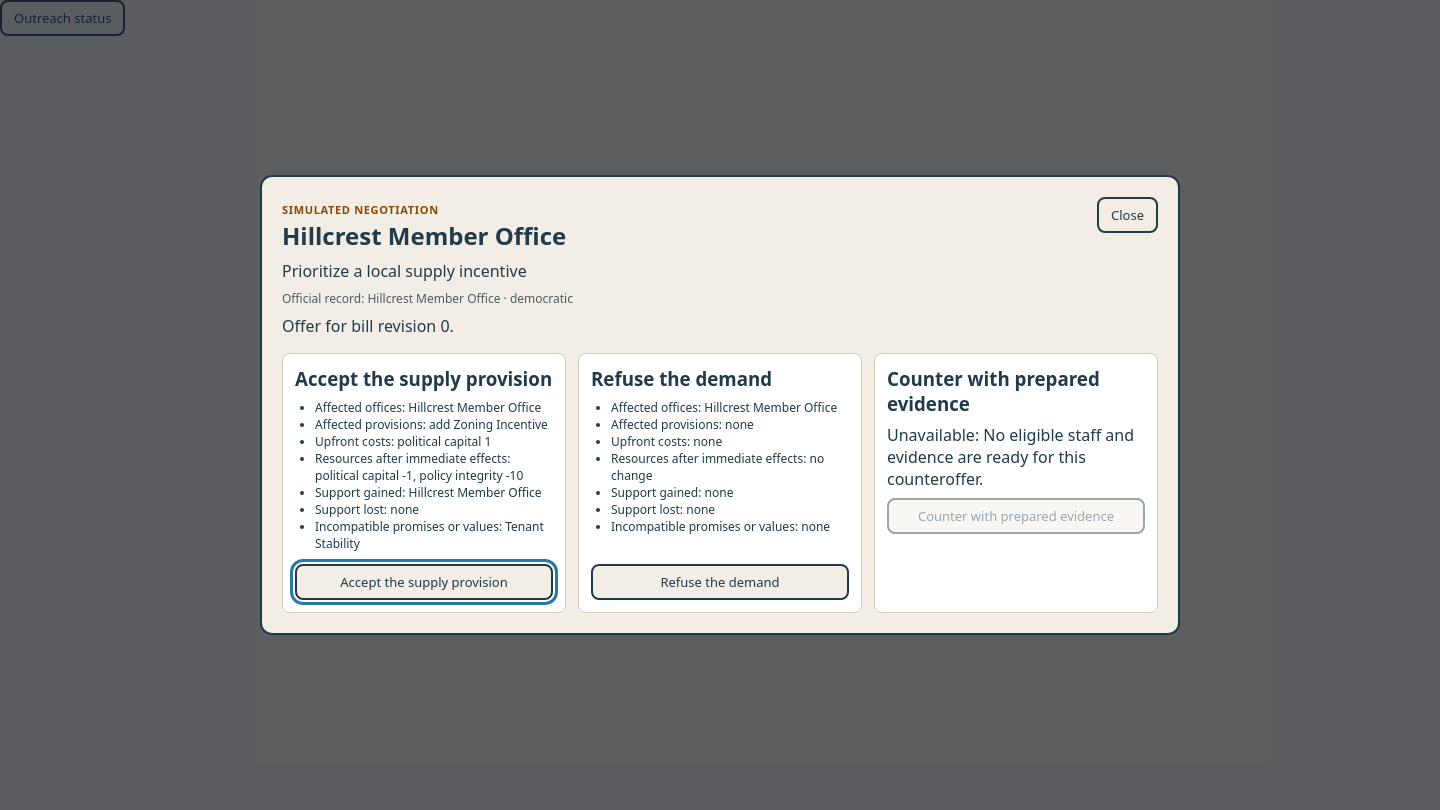
DecisionModal › records explicit refusal through the real button and returns focus
Step 1. Click the button with test id "decision-resolve-reject" → (720, 582), box [591,564,849,600]
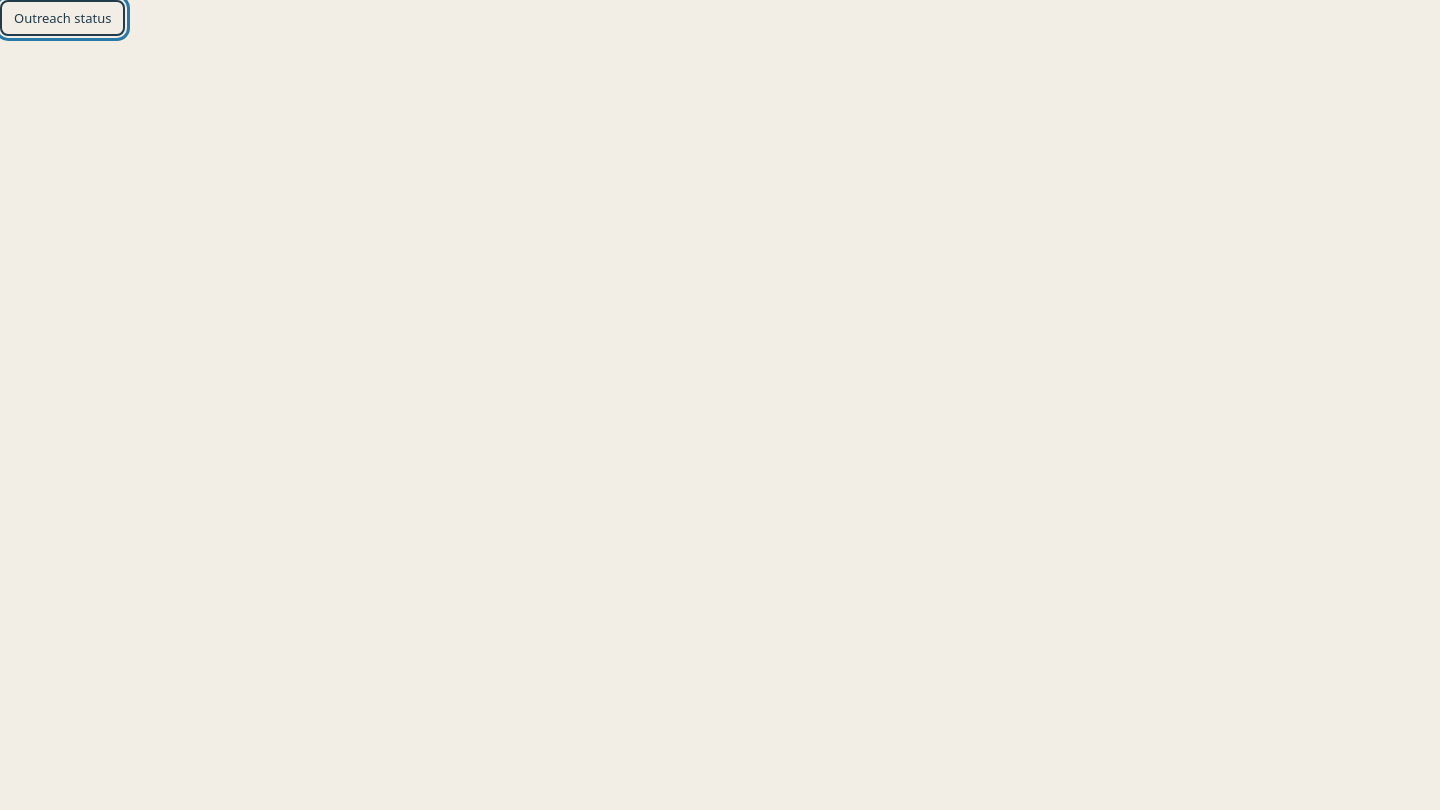
Result: the dialog is gone
